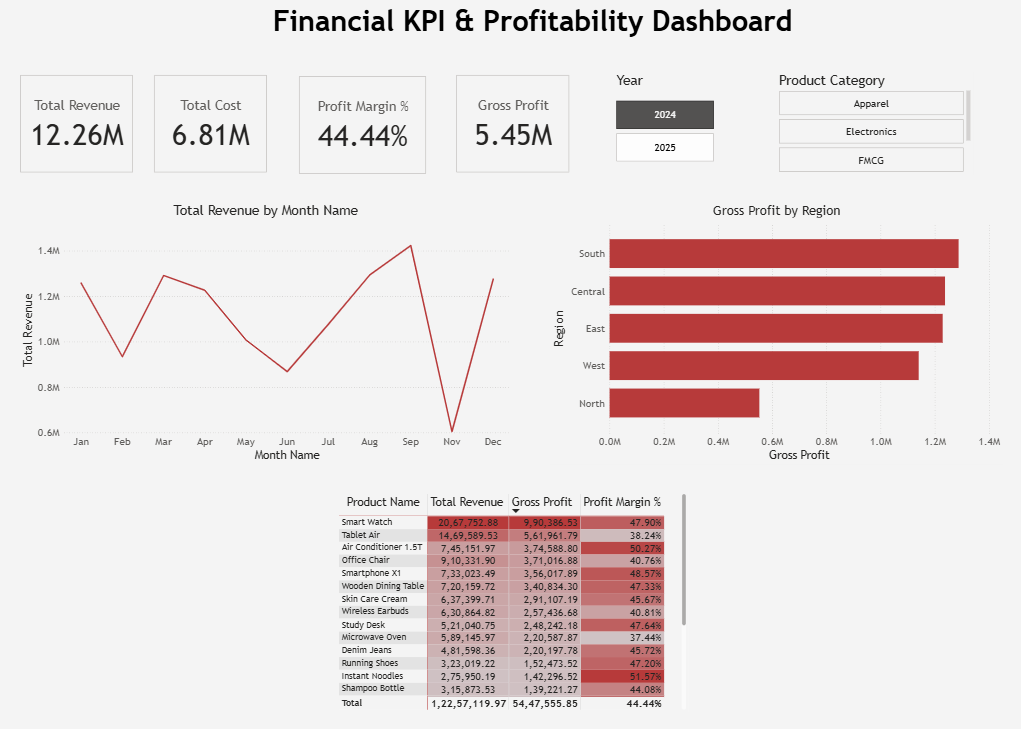

The dashboard page shown, as its layout file describes it:
{"tool":"powerbi","page":{"name":"Page 1","canvas":[2000,1800],"ordinal":0},"visuals":[{"type":"cardVisual","fields":{"Data":["_Measures .Total Revenue"]},"box":[35.6,191.1,230,200],"z":0},{"type":"cardVisual","fields":{"Data":["_Measures .Total Cost"]},"box":[297.8,191.1,230,200],"z":1000},{"type":"cardVisual","fields":{"Data":["_Measures .Profit Margin %"]},"box":[580.6,191.7,258.3,200],"z":2000},{"type":"cardVisual","fields":{"Data":["_Measures .Gross Profit"]},"box":[888.9,191.1,230,200],"z":3000},{"type":"lineChart","fields":{"Category":["Date Table.Month Name"],"Y":["_Measures .Total Revenue"]},"box":[40,445,962.5,510],"z":4000},{"type":"clusteredBarChart","fields":{"Category":["Financial_KPI_Data.Region"],"Y":["_Measures .Gross Profit"]},"box":[1075,444.4,883.3,511.1],"z":5000},{"type":"advancedSlicerVisual","fields":{"Values":["Date Table.Year"]},"box":[1200,190.3,200,200],"z":6000},{"type":"advancedSlicerVisual","fields":{"Values":["Financial_KPI_Data.Product Category"]},"box":[1516.1,190.3,383.9,200],"z":7000},{"type":"pivotTable","fields":{"Rows":["Financial_KPI_Data.Product Name"],"Values":["_Measures .Total Revenue","_Measures .Gross Profit","_Measures .Profit Margin %"]},"box":[659.4,1006.2,687.5,431.2],"z":8000},{"type":"textbox","box":[528.2,51.3,1061.5,84.6],"z":10000}]}

Visuals, with their boxes on the page's 2000x1800 design canvas (x1, y1, x2, y2). These are canvas units, not pixel positions in the 1021x729 screenshot, which may show the page scaled, cropped or inside an application window:
cardVisual - _Measures .Total Revenue: 36/191/266/391
cardVisual - _Measures .Total Cost: 298/191/528/391
cardVisual - _Measures .Profit Margin %: 581/192/839/392
cardVisual - _Measures .Gross Profit: 889/191/1119/391
lineChart - Date Table.Month Name x _Measures .Total Revenue: 40/445/1002/955
clusteredBarChart - Financial_KPI_Data.Region x _Measures .Gross Profit: 1075/444/1958/956
advancedSlicerVisual - Date Table.Year: 1200/190/1400/390
advancedSlicerVisual - Financial_KPI_Data.Product Category: 1516/190/1900/390
pivotTable - Financial_KPI_Data.Product Name x _Measures .Total Revenue: 659/1006/1347/1437
textbox: 528/51/1590/136
